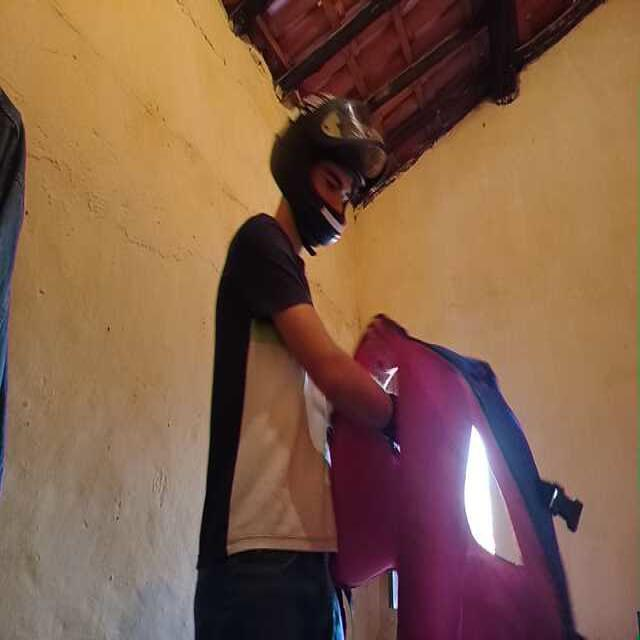capacete: (274, 92, 390, 247)
colete: (322, 312, 594, 638)
pessoa: (212, 155, 373, 640)
